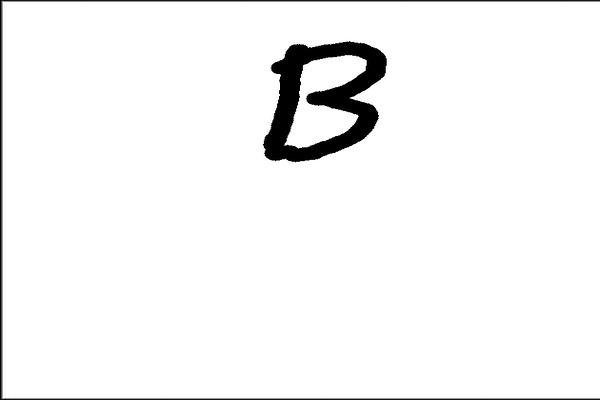B: (252, 35, 390, 164)
